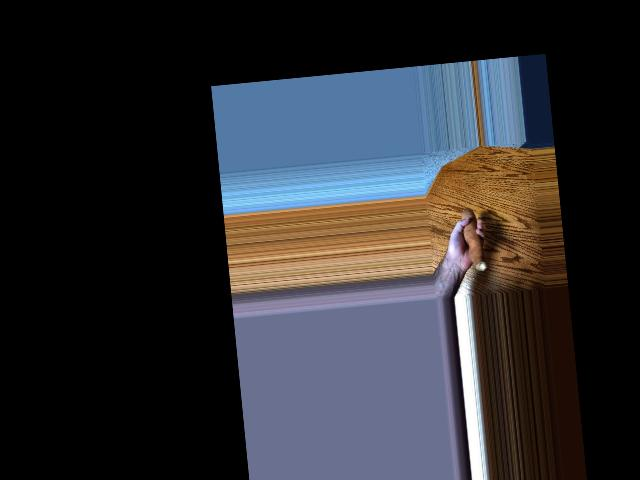sweet_potato: (456, 202, 485, 274)
